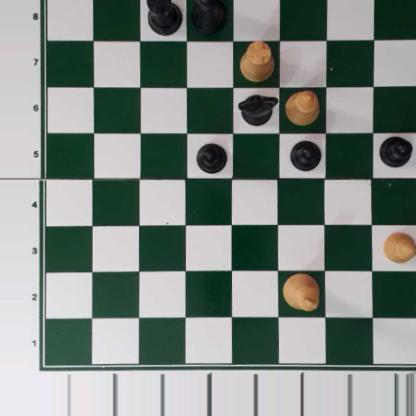black-king: (191, 0, 228, 34)
black-knight: (238, 93, 278, 125)
black-pawn: (378, 133, 412, 167), (194, 141, 228, 174), (290, 137, 321, 172)
black-rook: (144, 0, 184, 36)
white-bishop: (284, 89, 321, 126)
white-king: (282, 271, 321, 311)
white-pawn: (383, 230, 416, 265)
white-rook: (239, 39, 276, 82)
